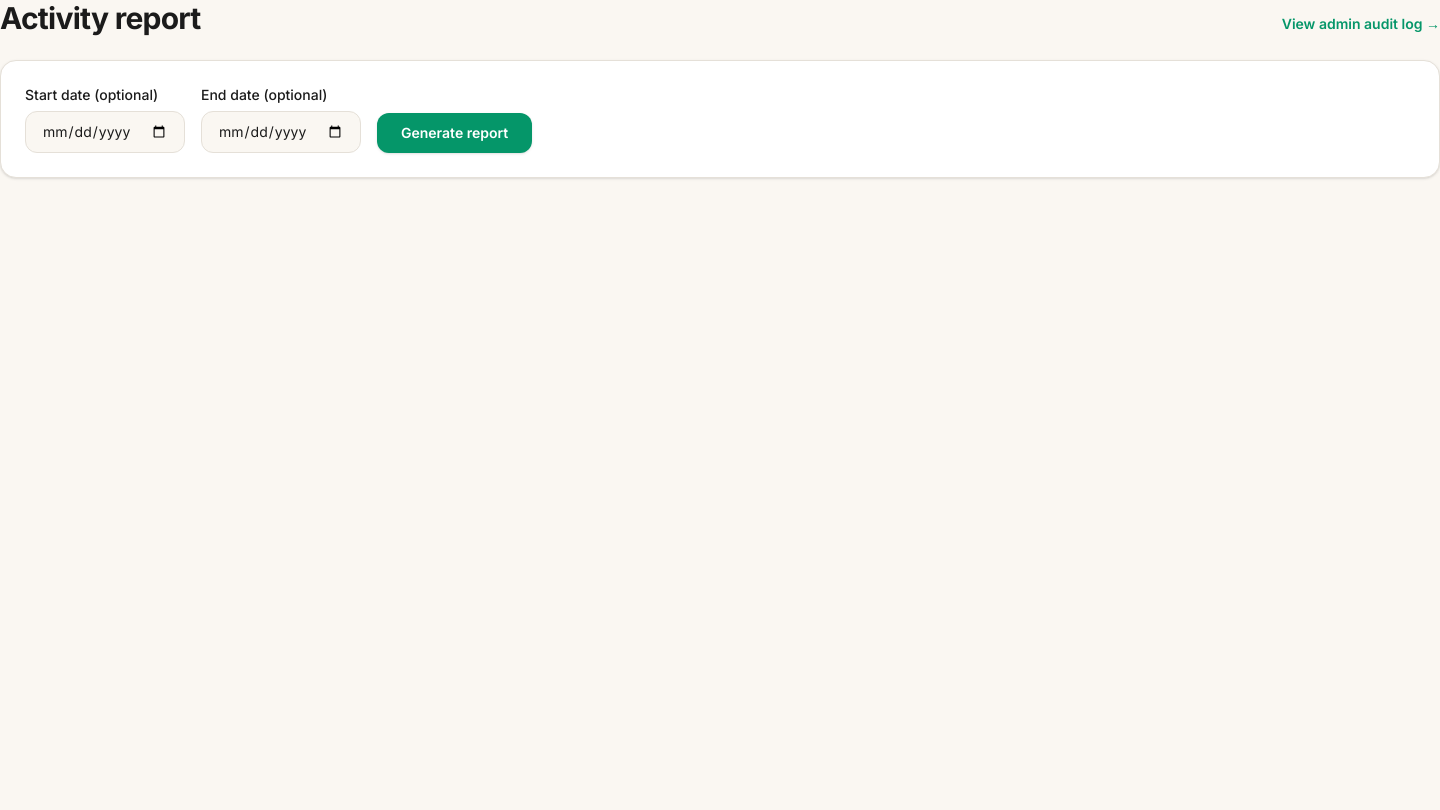
Test case: shows an "onward" note when only a start date was set
Click the button "Generate report" at (455, 133), box [377,113,532,153]
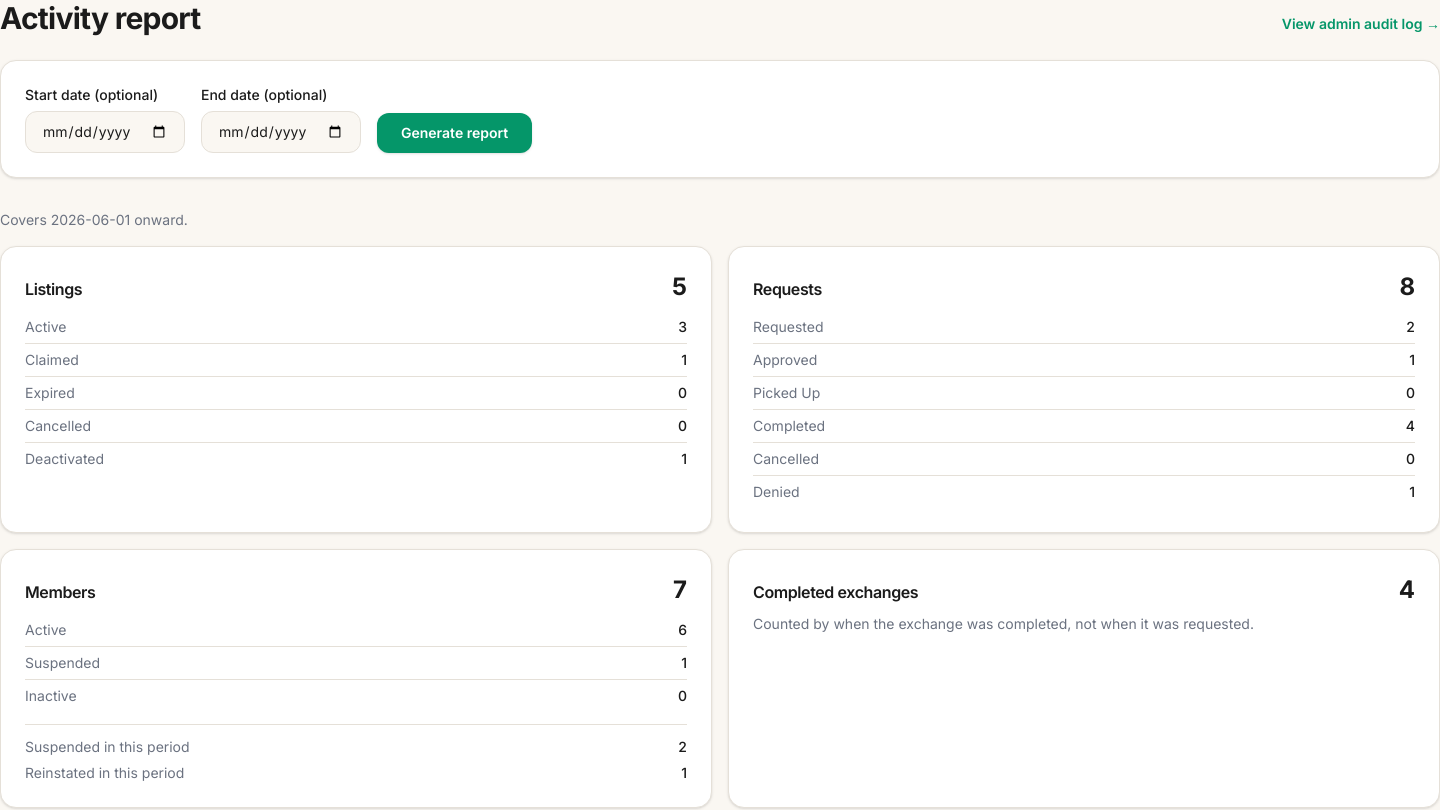
Now the text "Covers 2026-06-01 onward." is shown, box [0,211,188,228]
